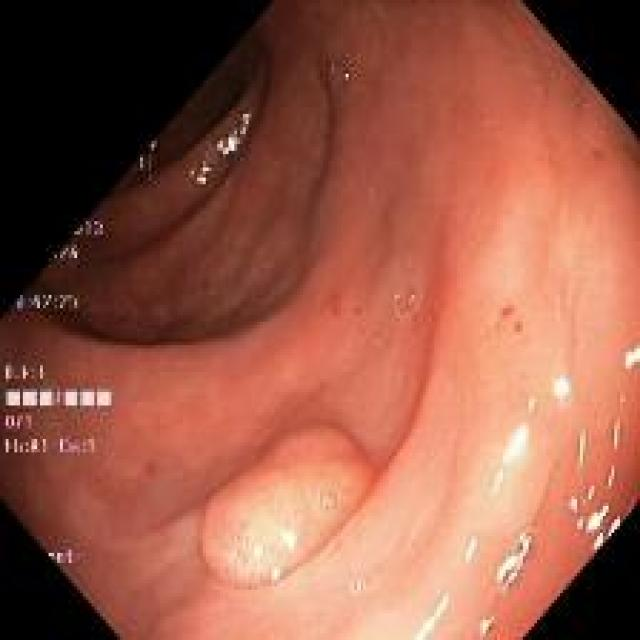Polyps: (200, 428, 375, 589)
